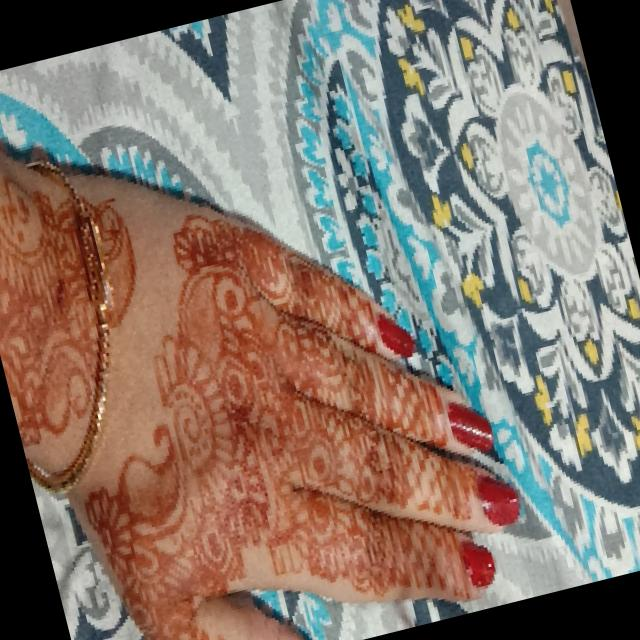Nail: (446, 402, 493, 452), (475, 475, 519, 526), (376, 314, 414, 357), (460, 541, 494, 587)
